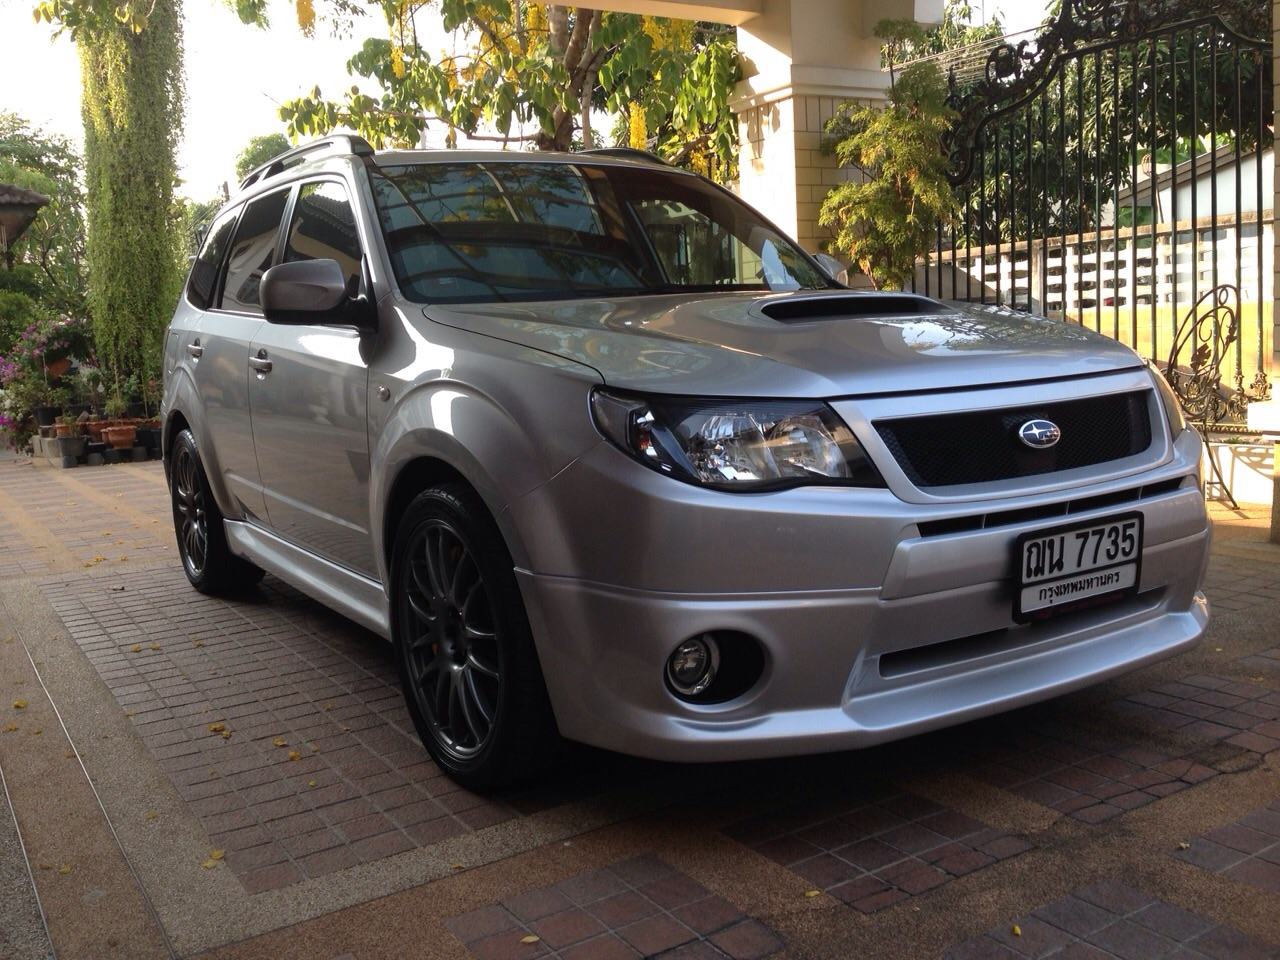pickup: (152, 128, 1215, 794)
